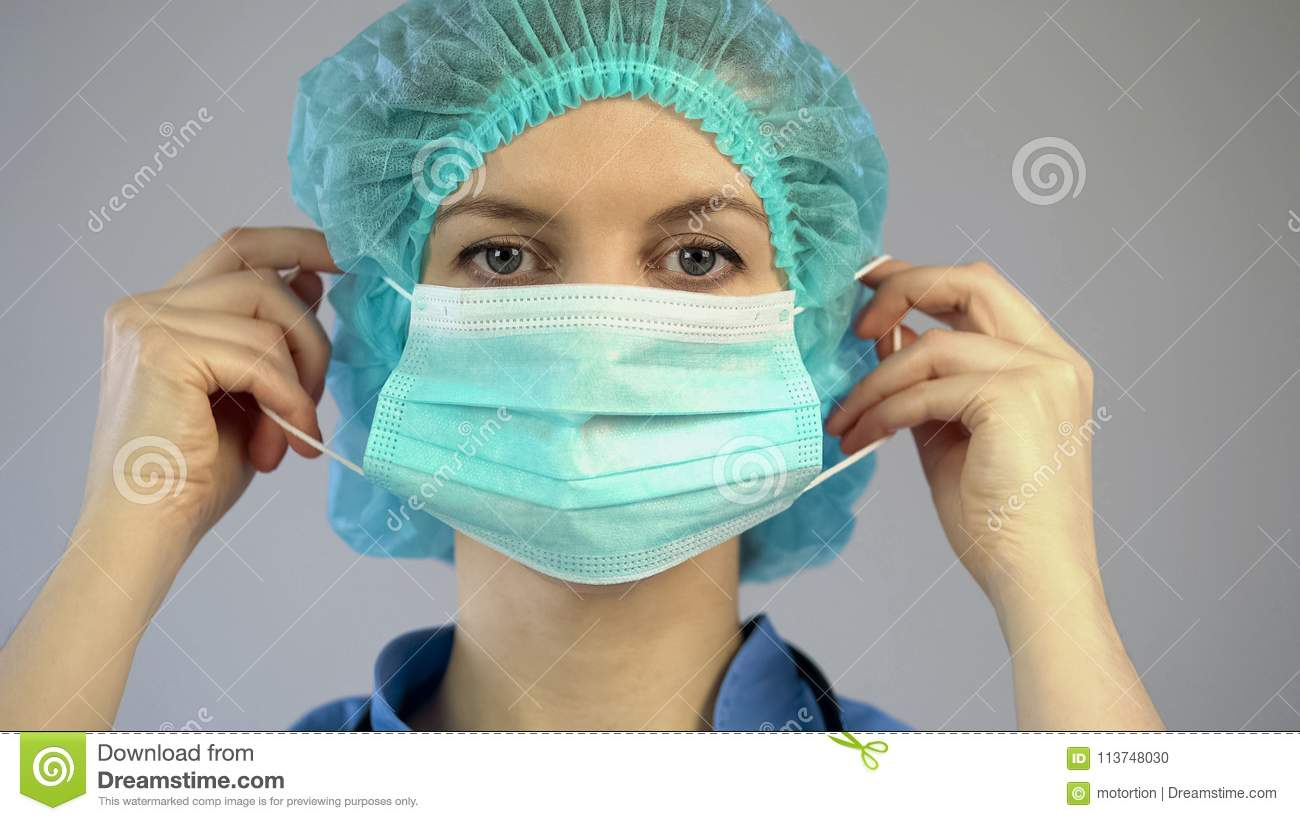mask: (365, 295, 863, 578)
